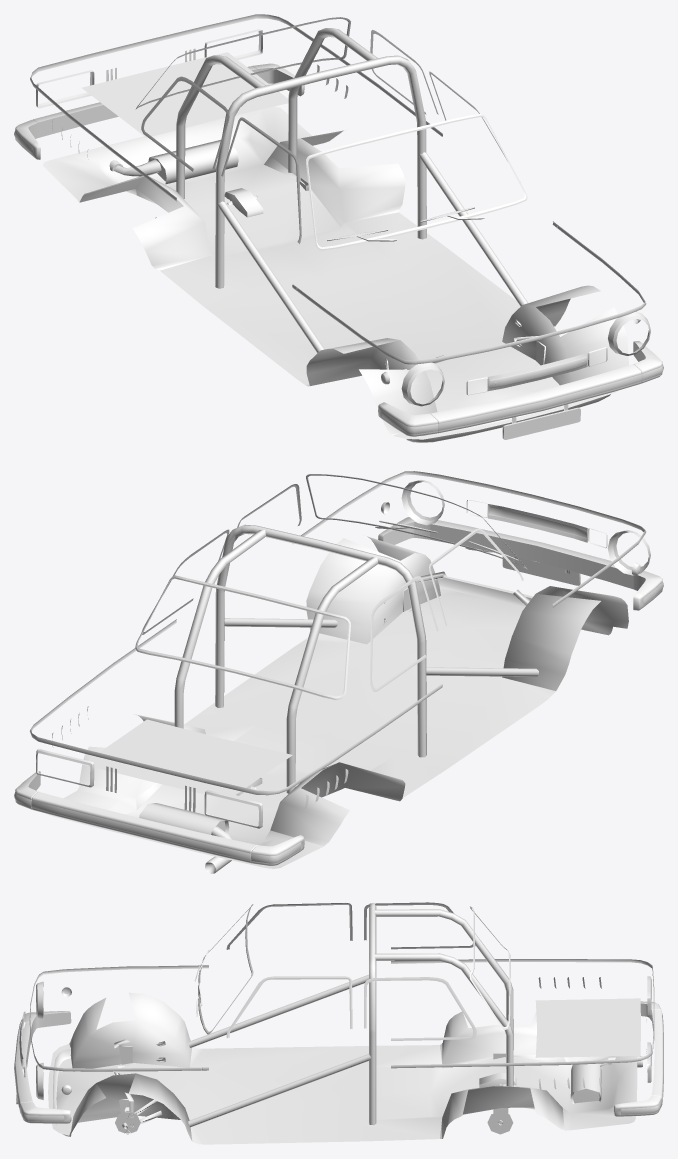
The picture shows the model from 3 angles, top to bottom: view 1: azimuth 30°, elevation 25°; view 2: azimuth 150°, elevation 25°; view 3: azimuth 270°, elevation 25°; orthographic projection. The views are drawn at different scales.
Size of the model in its own units: 1.45 by 1.09 by 3.75.
Materials: 1 (1 with a texture image).
